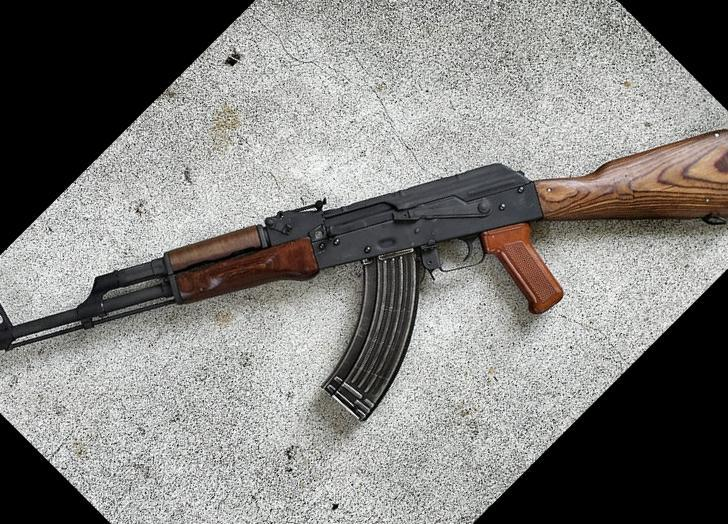larga: (0, 128, 728, 424)
